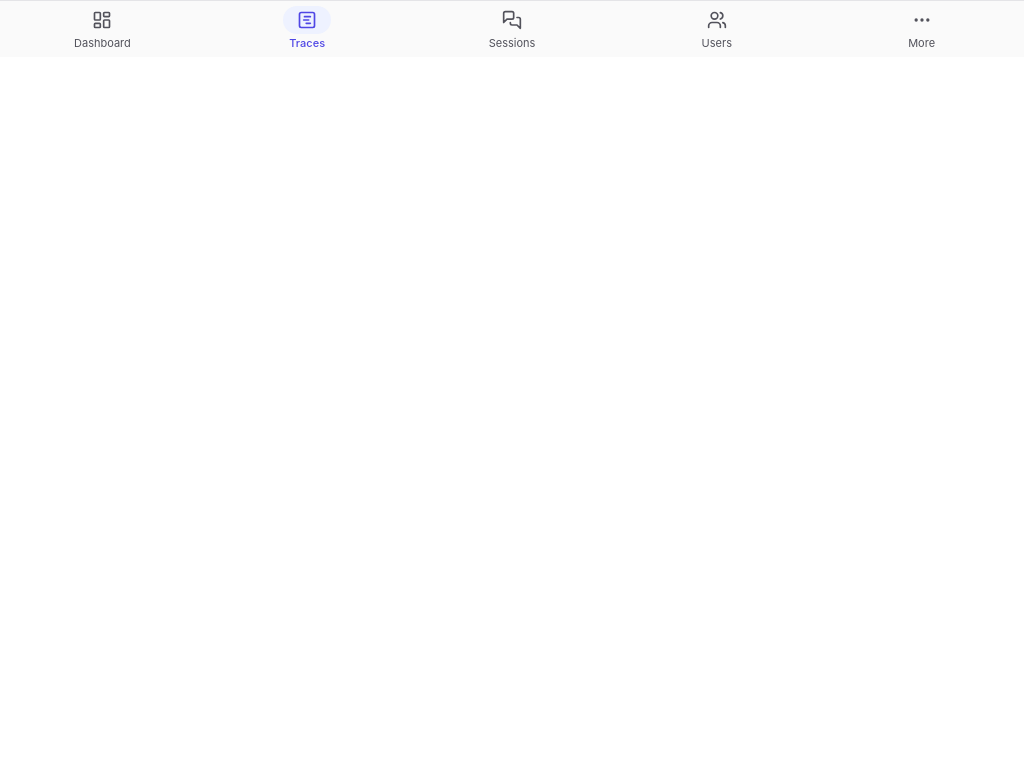
Test: on a phone › stays open while the screen rewrites its own query
Click the button "More": {"x": 922, "y": 29} [819,1,1023,57]
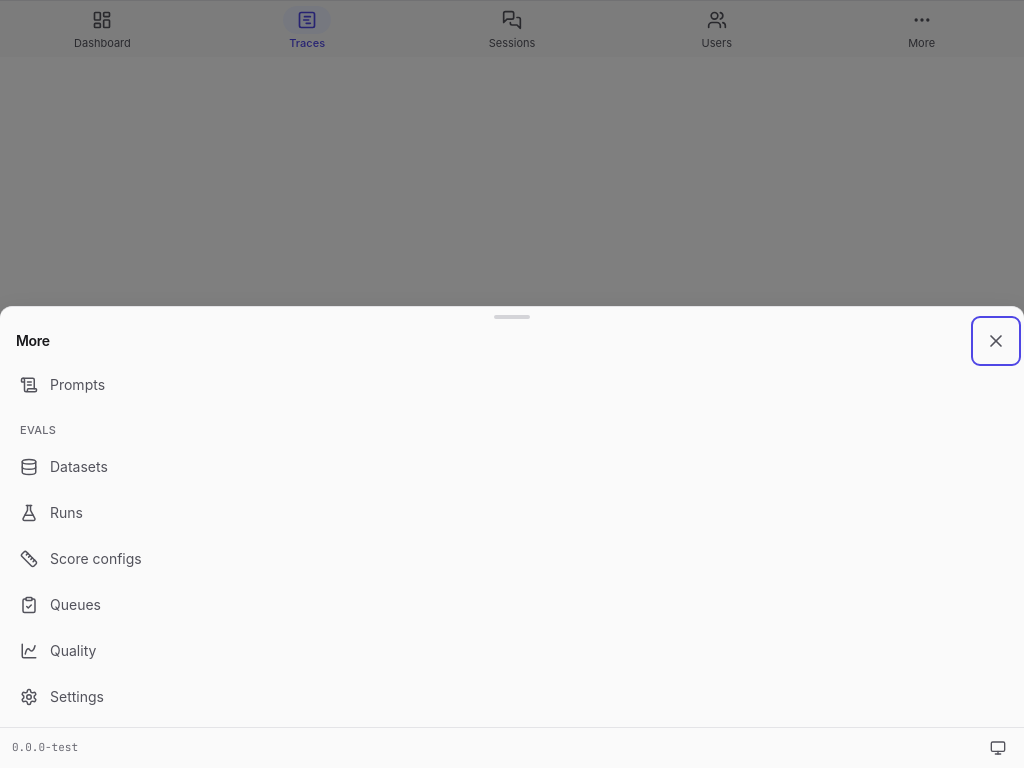
Expected: the dialog "More" is shown
